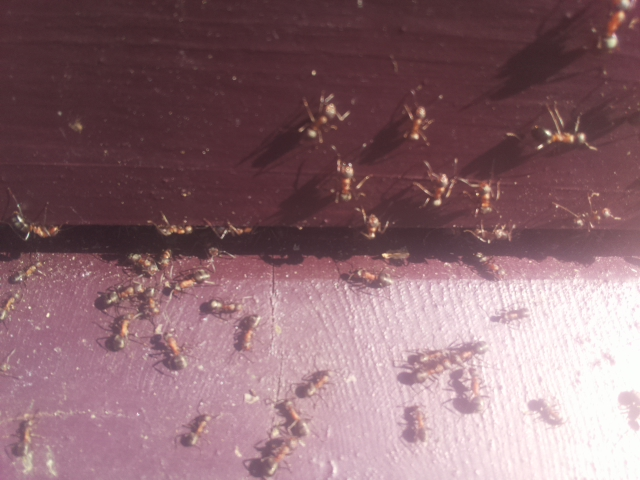ant: (289, 89, 348, 153), (396, 93, 438, 152), (252, 434, 303, 480), (416, 160, 454, 212), (525, 124, 595, 151), (5, 209, 67, 239), (290, 366, 339, 403), (157, 324, 193, 374), (177, 409, 219, 451), (595, 6, 631, 54), (9, 409, 42, 458), (519, 396, 569, 428), (401, 400, 434, 448), (276, 397, 313, 438), (234, 307, 263, 357), (352, 203, 388, 242), (94, 282, 140, 312), (6, 257, 49, 288), (174, 265, 216, 296), (612, 387, 640, 433), (334, 151, 356, 204), (107, 310, 133, 354), (471, 177, 498, 217), (488, 301, 528, 326), (470, 250, 505, 278), (0, 288, 22, 325), (141, 285, 162, 316)
